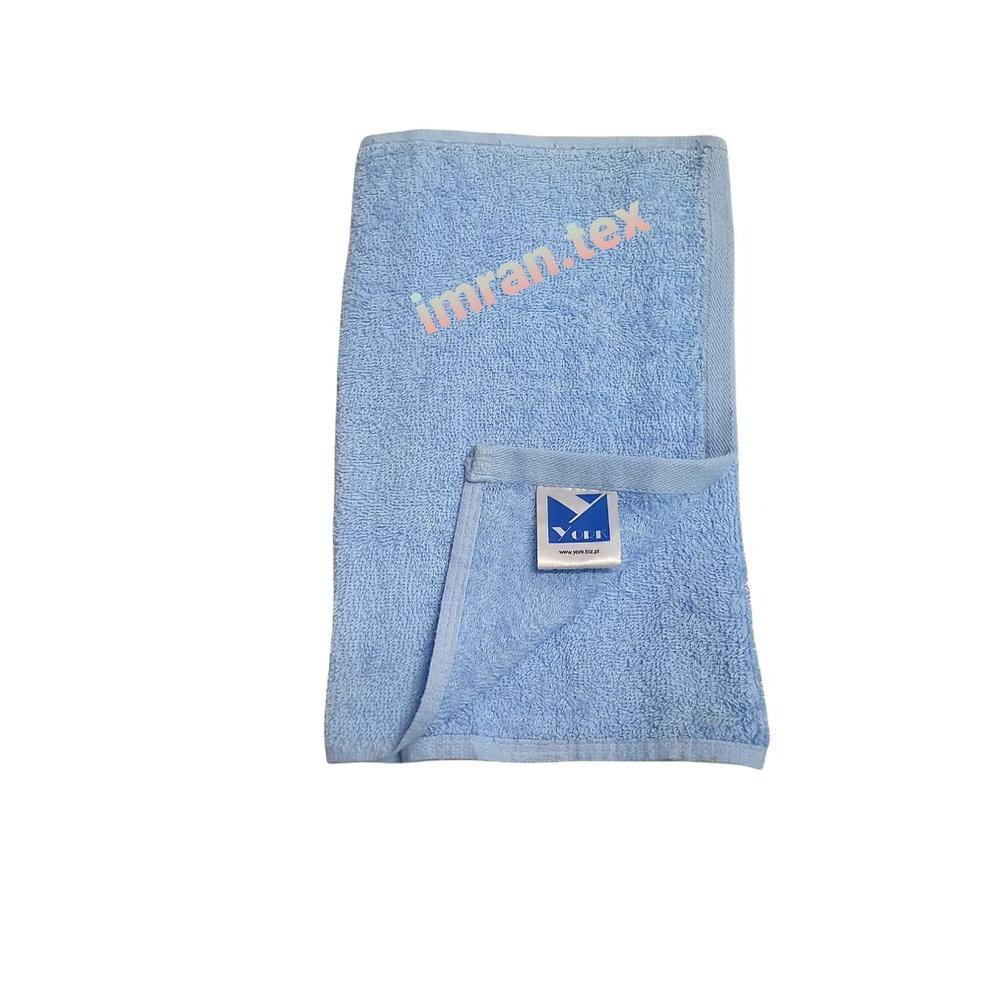towel: (285, 115, 808, 782)
